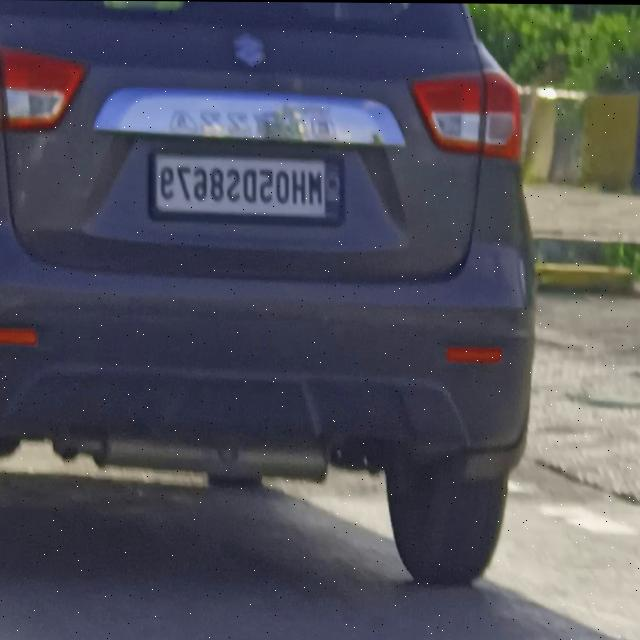plate: (145, 149, 347, 227)
